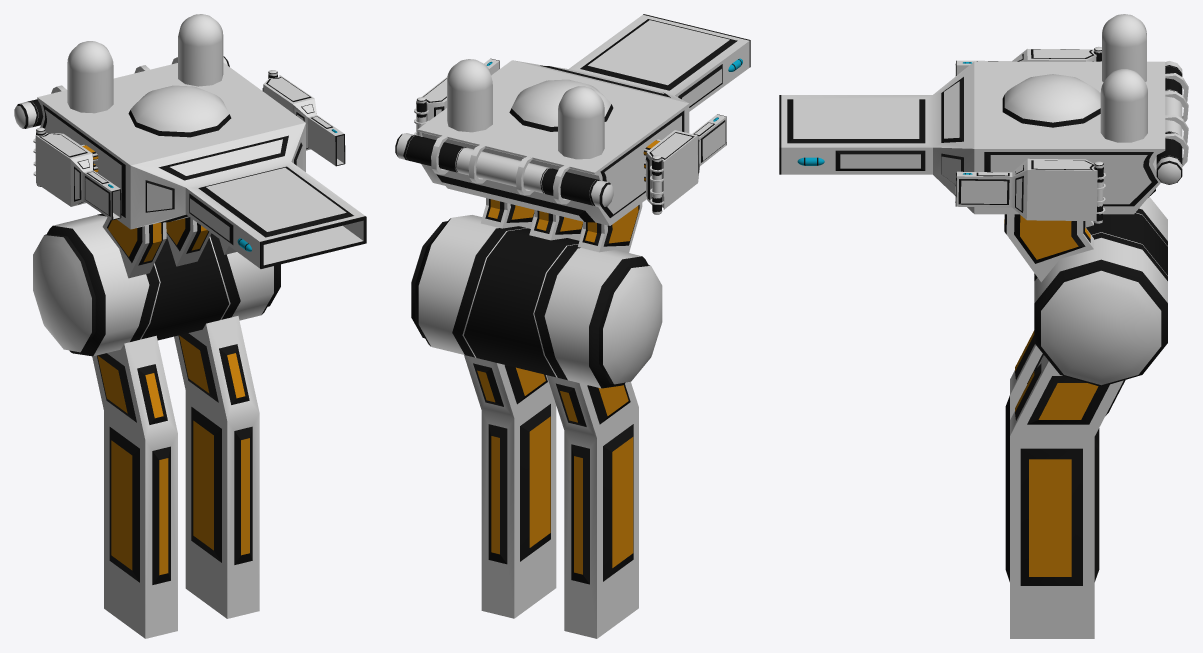
The model's file is tower_slow_upgrade1_asset.fbx.
The picture shows the model from 3 angles, left to right: view 1: azimuth 30°, elevation 25°; view 2: azimuth 150°, elevation 25°; view 3: azimuth 270°, elevation 25°; orthographic projection. The views are drawn at different scales.
Visible parts, largest first — view 1: tower_bottom, tower_gun; view 2: tower_bottom, tower_gun; view 3: tower_gun, tower_bottom.
Part boxes in pixels (x1=…): tower_bottom: x1=33, y1=213, x2=280, y2=638; tower_gun: x1=14, y1=14, x2=366, y2=278; tower_bottom: x1=411, y1=215, x2=662, y2=638; tower_gun: x1=395, y1=14, x2=750, y2=252; tower_gun: x1=779, y1=14, x2=1188, y2=282; tower_bottom: x1=1005, y1=197, x2=1167, y2=638.
Bounding box in the file's own units: 114 × 245 × 160.
